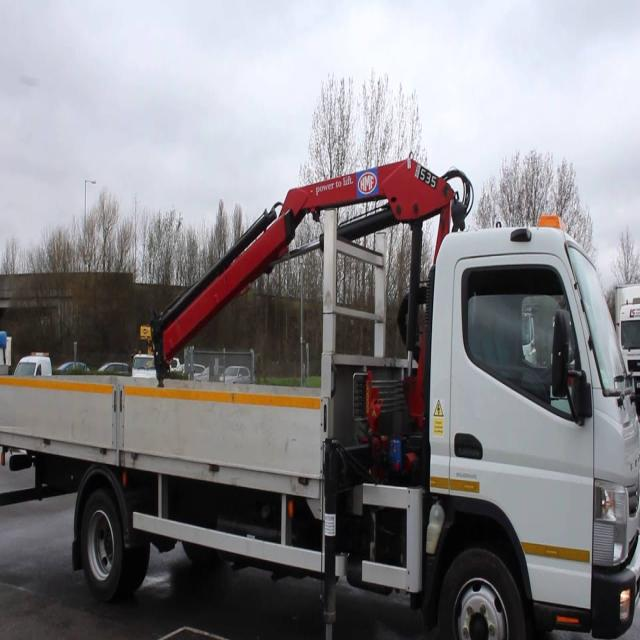truck: (0, 154, 640, 639)
